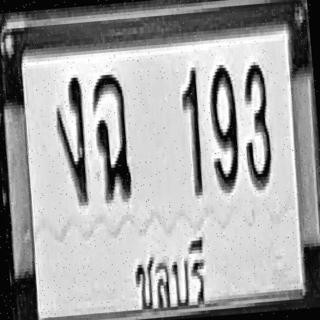A07: (48, 56, 98, 220)
A09: (88, 64, 146, 229)
N01: (171, 45, 215, 218)
N03: (242, 59, 284, 208)
N09: (206, 55, 249, 219)
P13: (114, 220, 240, 320)
